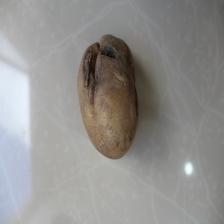Damaged potato: (76, 33, 140, 160)
